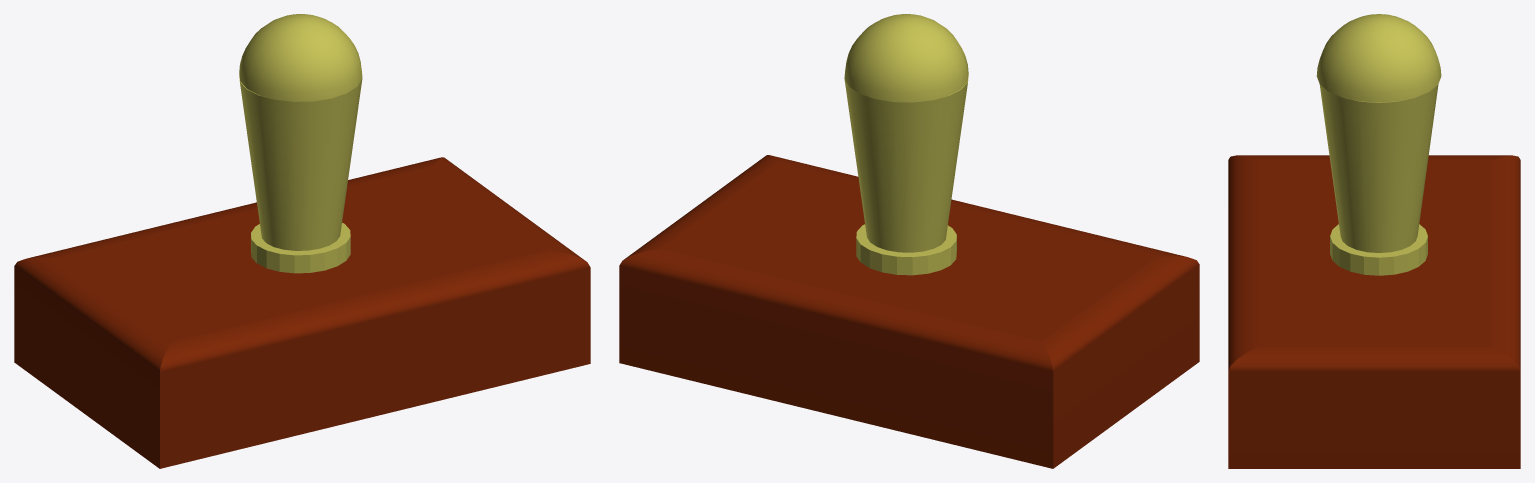
The model's file is 不通过章.fbx.
3 renders of one model, left to right at view 1: azimuth 30°, elevation 25°; view 2: azimuth 150°, elevation 25°; view 3: azimuth 270°, elevation 25°, orthographic.
Visible parts, largest first — view 1: pCube3, pCylinder1, pSphere1; view 2: pCube3, pCylinder1, pSphere1; view 3: pCube3, pCylinder1, pSphere1.
Part boxes in pixels (left/top/right/bottom): pCube3: left=14, top=157, right=590, bottom=468; pCylinder1: left=239, top=70, right=362, bottom=273; pSphere1: left=239, top=14, right=362, bottom=101; pCube3: left=619, top=155, right=1199, bottom=468; pCylinder1: left=844, top=70, right=968, bottom=275; pSphere1: left=844, top=14, right=968, bottom=102; pCube3: left=1228, top=155, right=1520, bottom=468; pCylinder1: left=1319, top=84, right=1438, bottom=275; pSphere1: left=1316, top=14, right=1441, bottom=102.
Bounding box in the file's own units: 0.1685 × 0.1277 × 0.0985.
